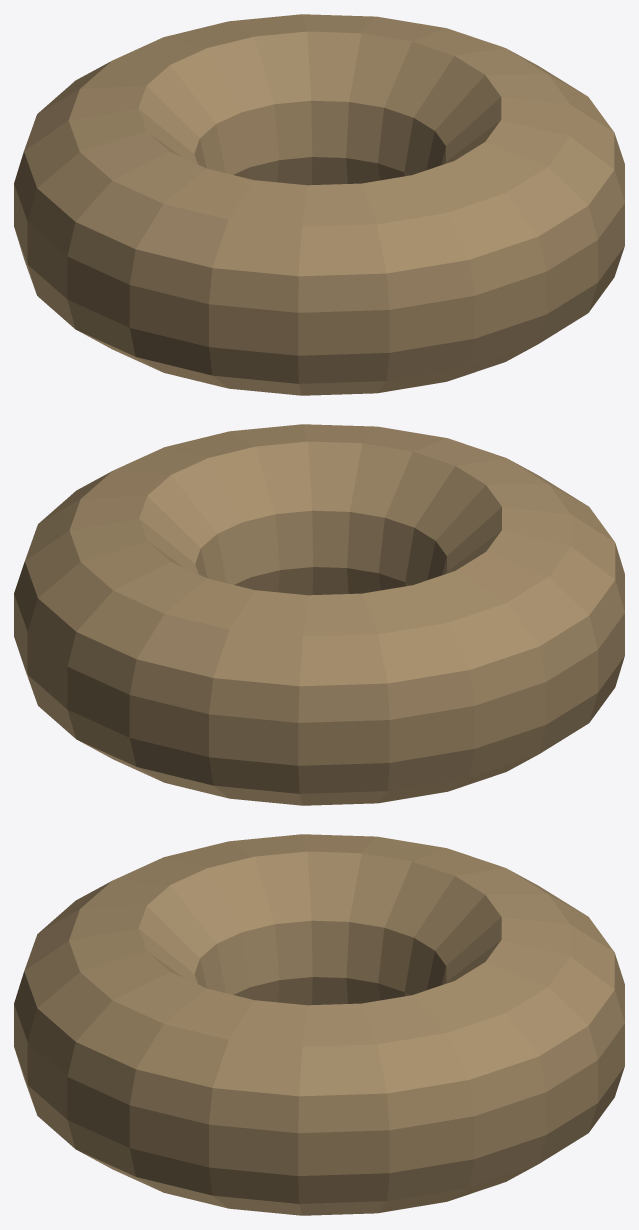
Rendered from quaternius-ultimate-food-donut-3.glb.
3 renders of one model, top to bottom at view 1: azimuth 30°, elevation 25°; view 2: azimuth 150°, elevation 25°; view 3: azimuth 270°, elevation 25°, orthographic.
Visible parts, largest first — view 1: Donut3; view 2: Donut3; view 3: Donut3.
Boxes of the visible parts, x1,y1,x2,y2 form: Donut3: (14,14,624,395); Donut3: (14,424,624,805); Donut3: (14,834,624,1215).
Size of the model in its own units: 0.8591 by 0.2801 by 0.8566.
